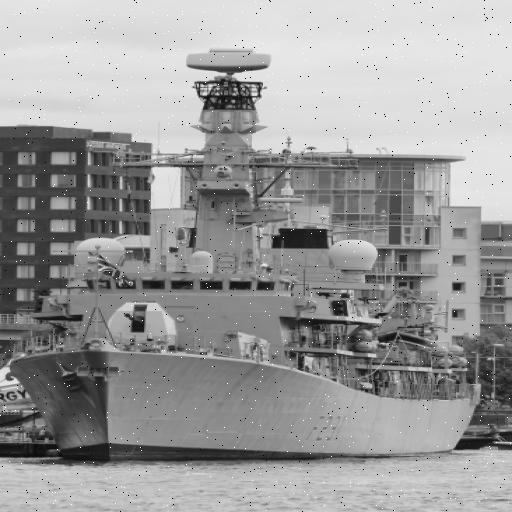Fragata: (15, 39, 482, 470)
